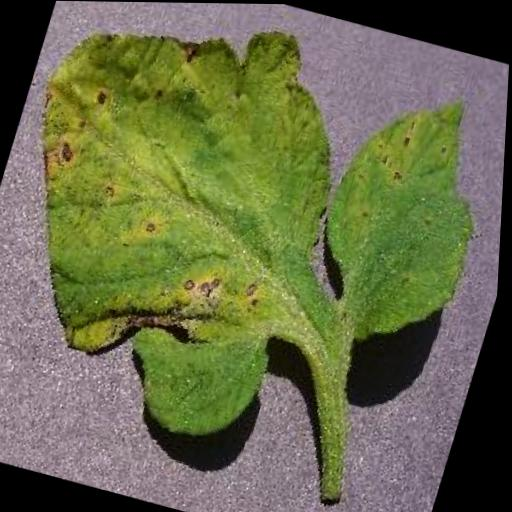Septoria: (0, 0, 512, 496)
